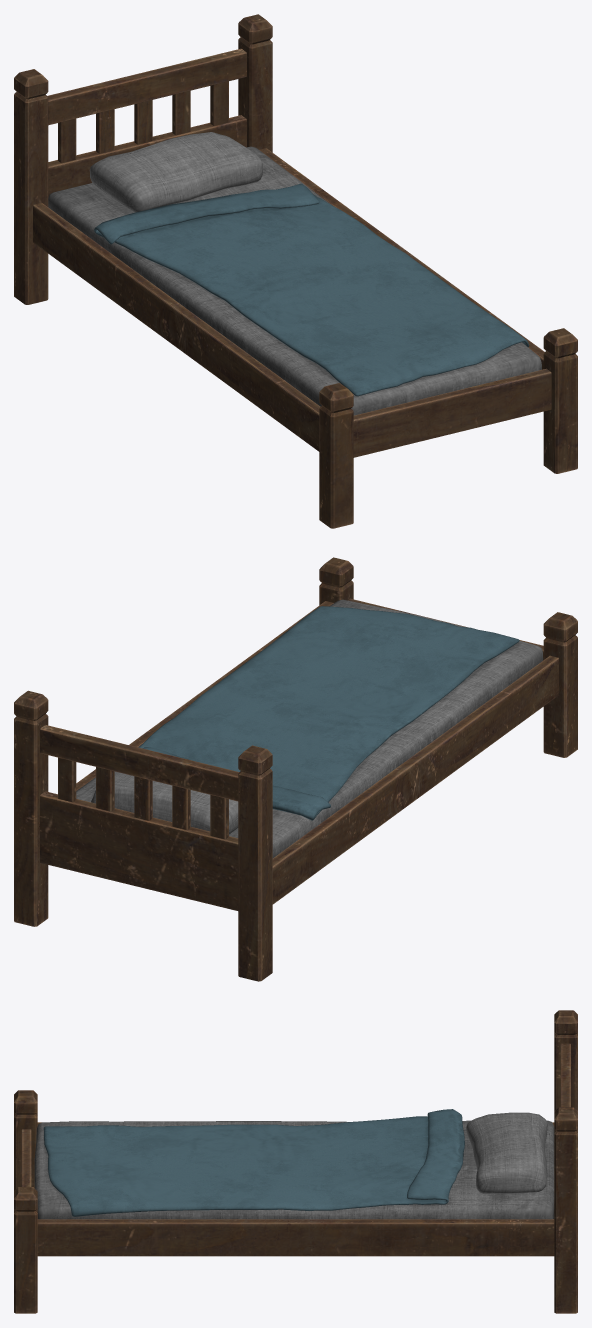
The model's file is cama.fbx.
3 views of the same model, one above another, from view 1: azimuth 30°, elevation 25°; view 2: azimuth 150°, elevation 25°; view 3: azimuth 270°, elevation 25° (orthographic). The views are drawn at different scales.
Parts seen in each view (by area): view 1: Bed; view 2: Bed; view 3: Bed.
Part boxes in pixels (x1,y1,x2,y2): Bed: (14,14,577,528); Bed: (14,557,577,981); Bed: (14,1010,577,1313).
Size of the model in its own units: 0.9853 by 0.8545 by 2.2.
